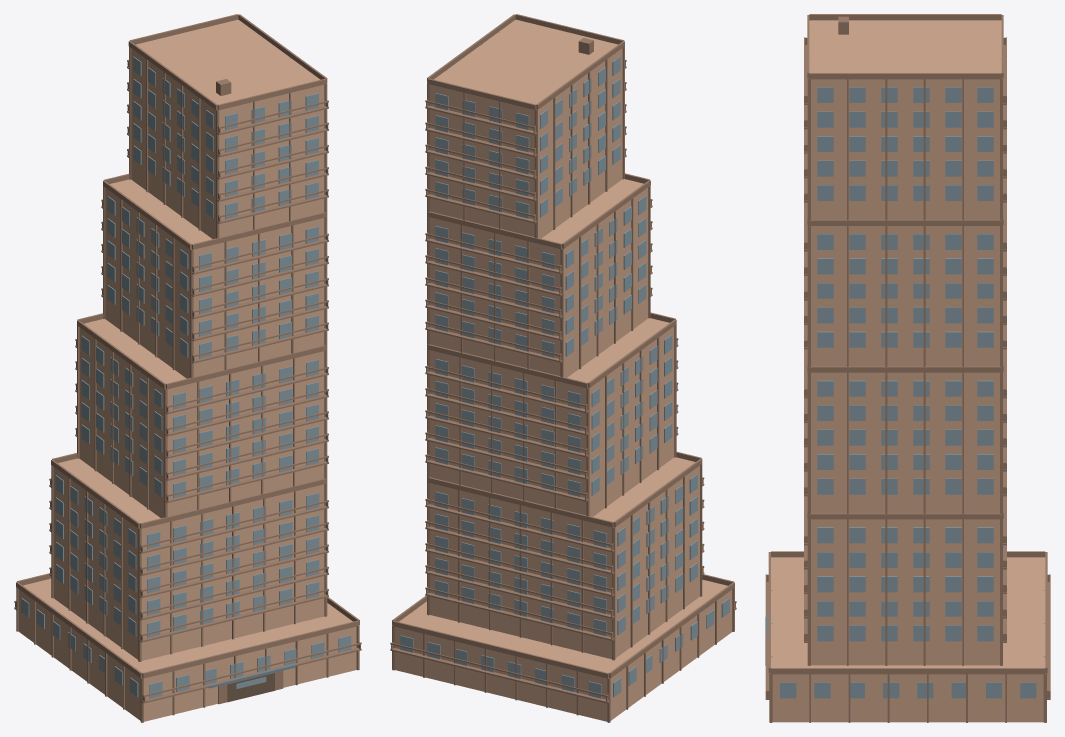
The model's file is residential_4x4_tower_steps.glb.
3 views of the same model, side by side, from view 1: azimuth 30°, elevation 25°; view 2: azimuth 150°, elevation 25°; view 3: azimuth 270°, elevation 25° (orthographic). The views are drawn at different scales.
Visible parts, largest first — view 1: residential_4x4_tower_steps_0; view 2: residential_4x4_tower_steps_0; view 3: residential_4x4_tower_steps_0.
Boxes of the visible parts, <box> form: residential_4x4_tower_steps_0: <box>14,14,361,722</box>; residential_4x4_tower_steps_0: <box>390,14,736,722</box>; residential_4x4_tower_steps_0: <box>765,14,1050,722</box>.
Bounding box in the file's own units: 31 × 79.5 × 31.75.
